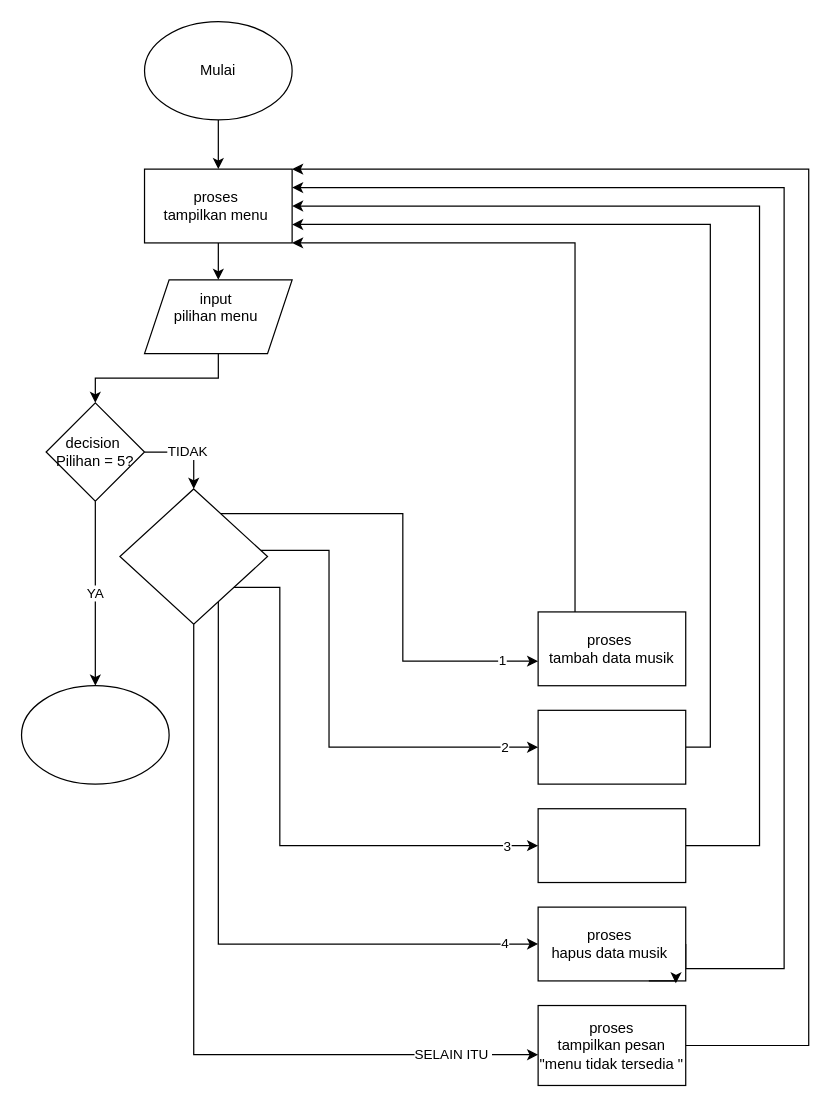
The diagram is 840 pixels wide and 1107 high, and some of its shapes have lost their labels. Here are the shapes that lost their labels. From the top down, the centre of each, then its label:
At (193,556): "decision pilihan 1,2,3,4 ?".
At (94,734): "selesai".
At (611,746): "proses lihat data musik".
At (611,845): "proses ubah data musik".
